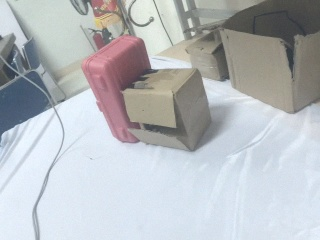box: (222, 1, 320, 112), (123, 69, 211, 151)
